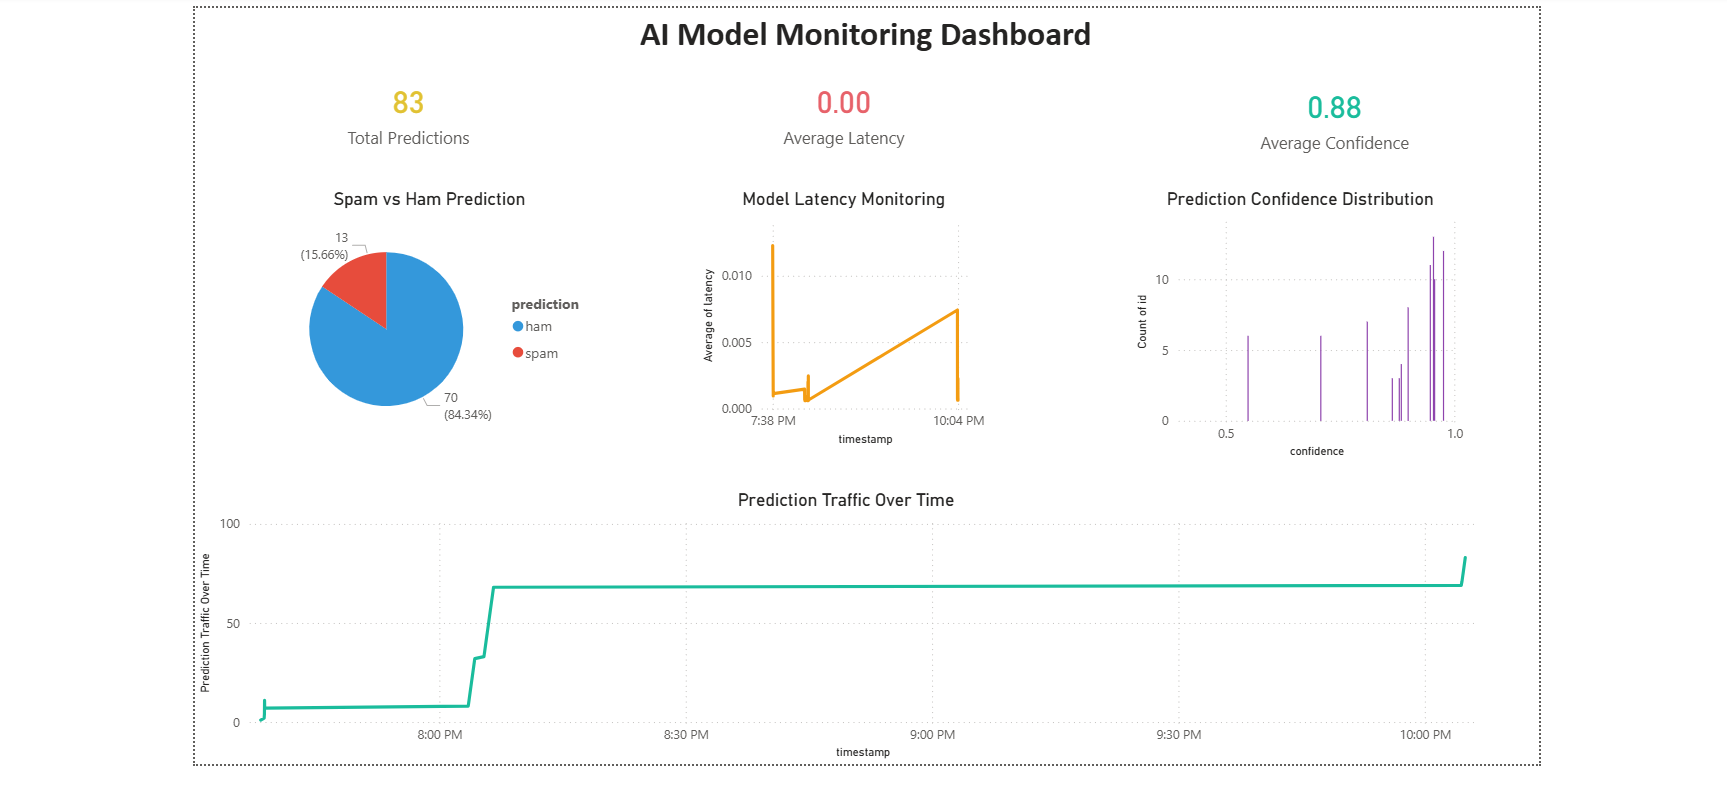

The dashboard page shown, as its layout file describes it:
{"tool":"powerbi","page":{"name":"Page 1","canvas":[1280,720],"ordinal":0},"visuals":[{"type":"pieChart","title":"Spam vs Ham Prediction","fields":{"Category":["predictions.prediction"],"Y":["CountNonNull(predictions.prediction)"]},"box":[58.3,171.7,330,250],"z":0},{"type":"lineChart","title":"Prediction Traffic Over Time","fields":{"Y":["Sum(predictions.id)"],"Category":["predictions.timestamp"]},"box":[0,458.3,1240,261.7],"z":1000},{"type":"clusteredColumnChart","title":"Prediction Confidence Distribution","fields":{"Category":["predictions.confidence"],"Y":["CountNonNull(predictions.id)"]},"box":[891.7,171.7,321.7,261.7],"z":2000},{"type":"lineChart","title":"Model Latency Monitoring","fields":{"Y":["Avg(predictions.latency)"],"Category":["predictions.timestamp"]},"box":[478.3,171.7,278.3,250],"z":3000},{"type":"card","fields":{"Values":["CountNonNull(predictions.id)"]},"box":[70,60,266.7,78.3],"z":4000},{"type":"card","fields":{"Values":["Avg(predictions.confidence)"]},"box":[956.7,61.7,256.7,83.3],"z":5000},{"type":"card","fields":{"Values":["Avg(predictions.latency)"]},"box":[496.7,60,243.3,78.3],"z":6000},{"type":"textbox","box":[360,0,558.3,61.7],"z":6001}]}

Visuals, with their boxes on the page's 1280x720 design canvas (x1, y1, x2, y2). These are canvas units, not pixel positions in the 1727x786 screenshot, which may show the page scaled, cropped or inside an application window:
"Spam vs Ham Prediction" pieChart: x1=58, y1=172, x2=388, y2=422
"Prediction Traffic Over Time" lineChart: x1=0, y1=458, x2=1240, y2=720
"Prediction Confidence Distribution" clusteredColumnChart: x1=892, y1=172, x2=1213, y2=433
"Model Latency Monitoring" lineChart: x1=478, y1=172, x2=757, y2=422
card - CountNonNull(predictions.id): x1=70, y1=60, x2=337, y2=138
card - Avg(predictions.confidence): x1=957, y1=62, x2=1213, y2=145
card - Avg(predictions.latency): x1=497, y1=60, x2=740, y2=138
textbox: x1=360, y1=0, x2=918, y2=62
